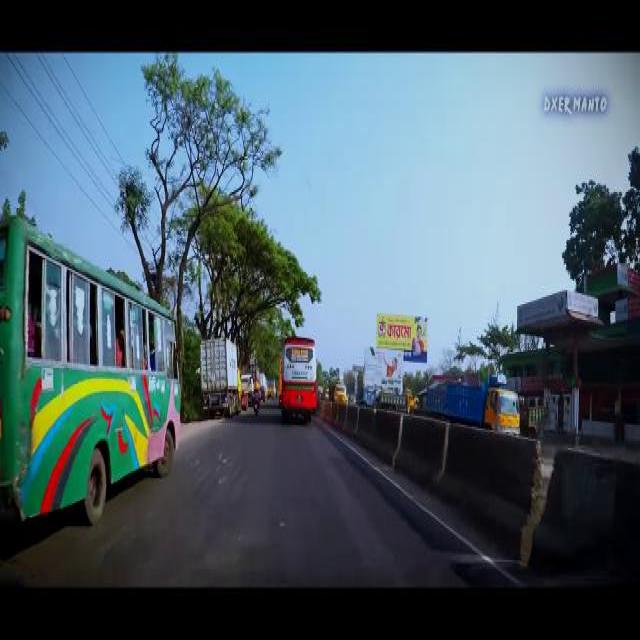bike: (254, 400, 259, 414)
vehicle: (1, 213, 182, 524), (426, 386, 521, 434), (200, 336, 242, 414), (281, 336, 318, 416), (378, 391, 414, 407), (329, 382, 348, 402)
